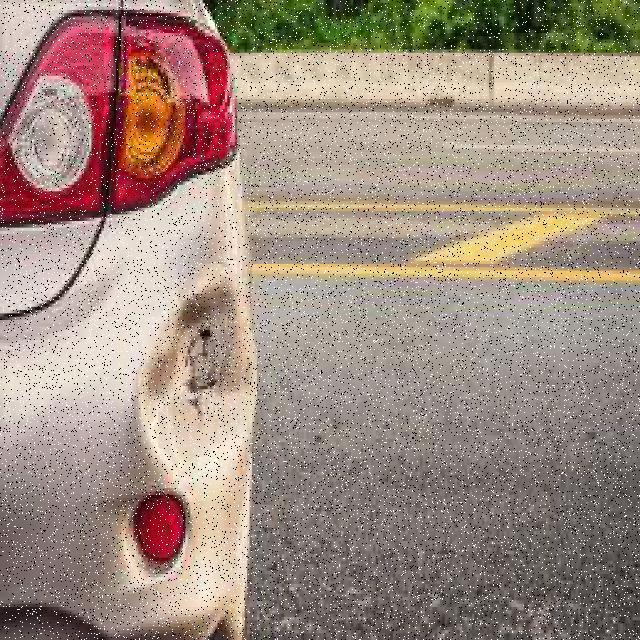rear-bumper-dent: (0, 238, 257, 636)
